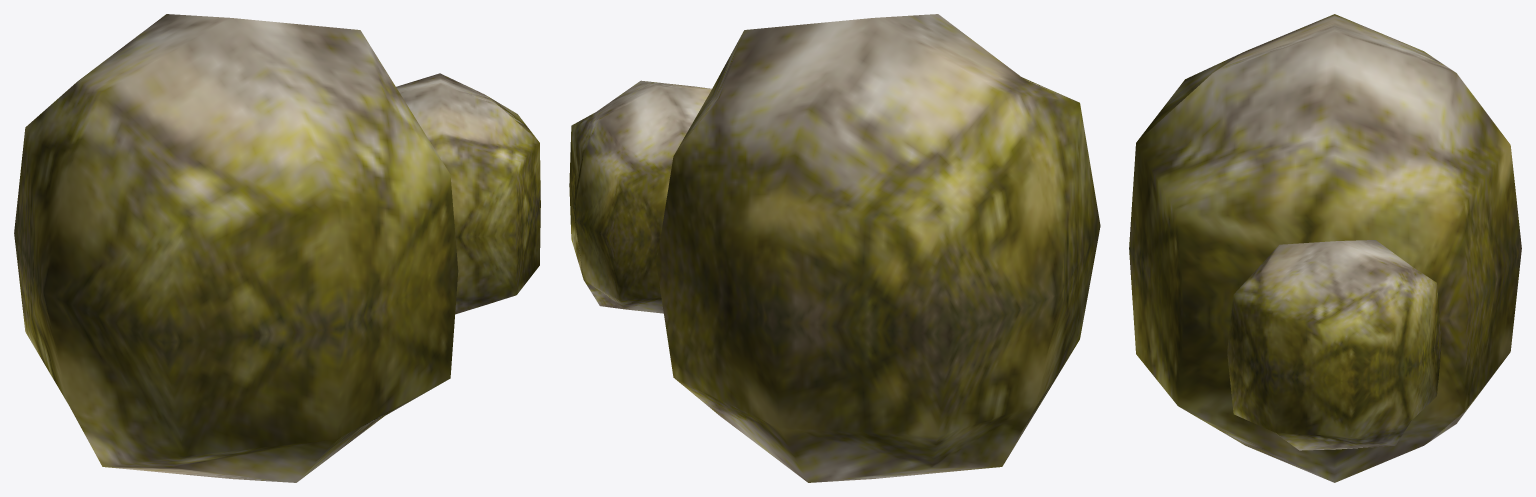
File: n_SWTstone01c.glb
3 renders of one model, left to right at view 1: azimuth 30°, elevation 25°; view 2: azimuth 150°, elevation 25°; view 3: azimuth 270°, elevation 25°, orthographic. The views are drawn at different scales.
Visible parts, largest first — view 1: n_SWTstone01c; view 2: n_SWTstone01c; view 3: n_SWTstone01c.
Part boxes in pixels (x1,y1,x2,y2): n_SWTstone01c: (14, 14, 540, 482); n_SWTstone01c: (569, 14, 1100, 482); n_SWTstone01c: (1129, 14, 1521, 482).
Size of the model in its own units: 0.712 by 0.6531 by 0.5374.
Materials: 1 (1 with a texture image).
